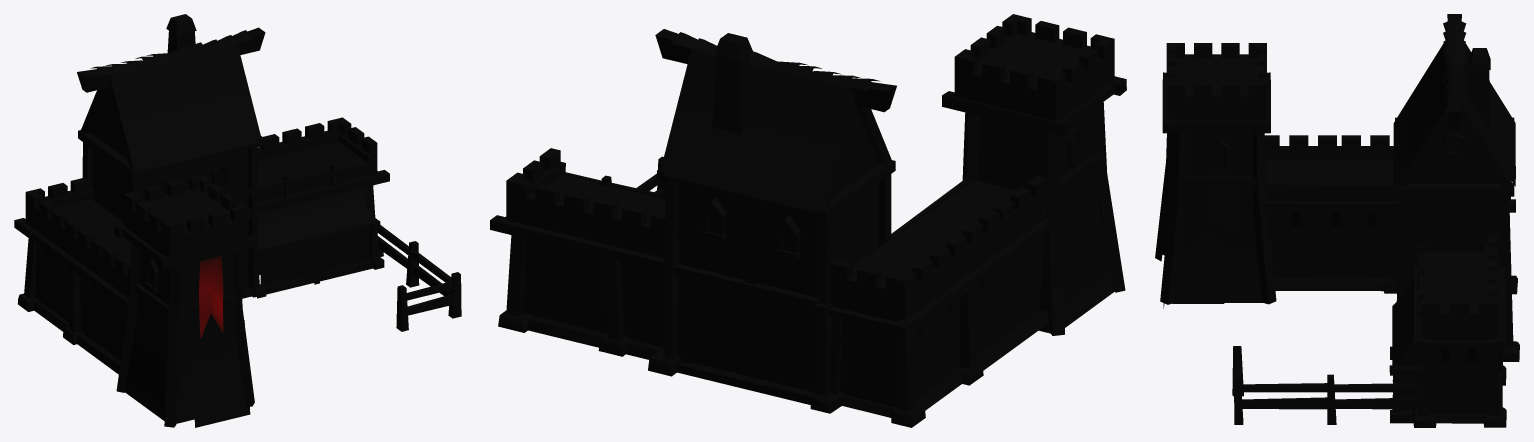
The model's file is barracks_01_LOD_2.fbx.
3 views of the same model, side by side, from view 1: azimuth 30°, elevation 25°; view 2: azimuth 150°, elevation 25°; view 3: azimuth 270°, elevation 25° (orthographic). The views are drawn at different scales.
Parts seen in each view (by area): view 1: barracks_01_LOD_2; view 2: barracks_01_LOD_2; view 3: barracks_01_LOD_2.
Boxes of the visible parts, <box> form: barracks_01_LOD_2: <box>14,14,461,427</box>; barracks_01_LOD_2: <box>490,14,1126,427</box>; barracks_01_LOD_2: <box>1155,14,1519,427</box>.
Bounding box in the file's own units: 18.27 × 13.95 × 15.41.
